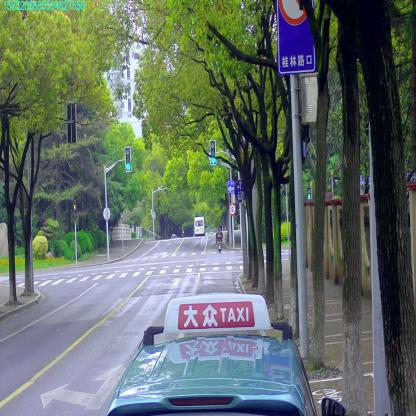traffic-light: (125, 146, 131, 170), (210, 140, 216, 164)
